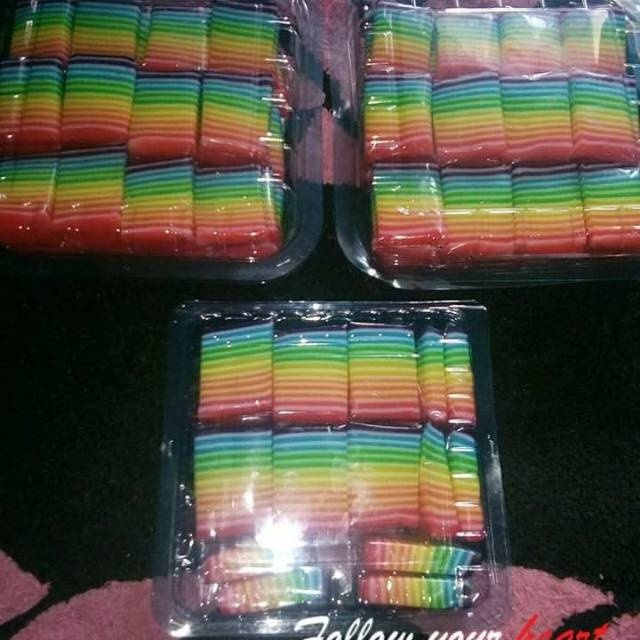kue_lapis_pelangi: (265, 430, 346, 536), (191, 431, 269, 536), (266, 327, 348, 424), (340, 434, 422, 530), (199, 320, 272, 422), (345, 330, 422, 422), (195, 164, 280, 245), (432, 76, 507, 164), (50, 148, 125, 236), (439, 166, 515, 252), (122, 162, 195, 249), (363, 76, 432, 164), (510, 174, 589, 249), (368, 170, 441, 250), (503, 78, 575, 158), (59, 64, 135, 138), (574, 78, 639, 164), (202, 75, 268, 156), (206, 8, 282, 75), (131, 73, 195, 152), (363, 10, 436, 75), (581, 170, 638, 249), (563, 10, 626, 72), (68, 9, 146, 56), (435, 19, 500, 73), (142, 9, 206, 62), (503, 15, 560, 74)
